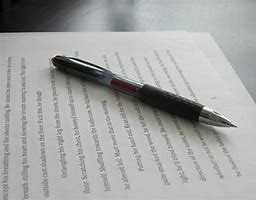pen: (49, 50, 238, 127)
